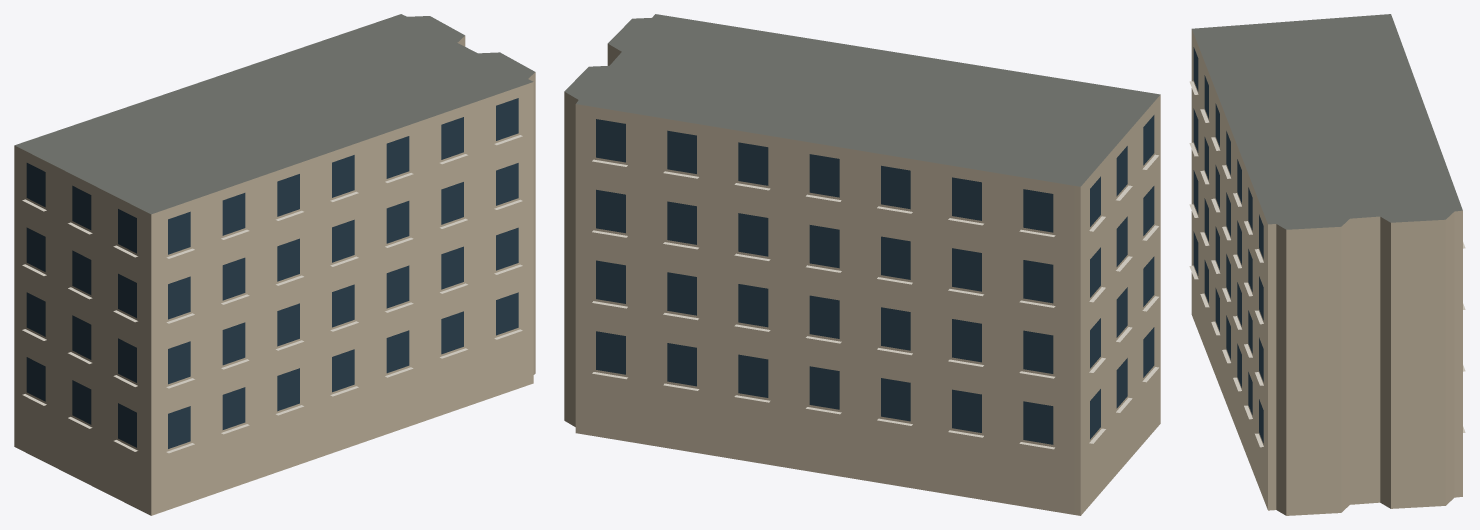
3 views of the same model, side by side, from view 1: azimuth 30°, elevation 25°; view 2: azimuth 150°, elevation 25°; view 3: azimuth 270°, elevation 25° (orthographic). The views are drawn at different scales.
Visible parts, largest first — view 1: Footprint 0, Inferred window bays, Window sills; view 2: Footprint 0, Inferred window bays, Window sills; view 3: Footprint 0, Inferred window bays, Window sills.
Boxes of the visible parts, x1,y1,x2,y2 form: Footprint 0: (14,14,535,515); Inferred window bays: (26,98,518,448); Window sills: (22,135,522,453); Footprint 0: (564,14,1160,515); Inferred window bays: (596,115,1154,444); Window sills: (592,154,1158,449); Footprint 0: (1191,14,1462,515); Inferred window bays: (1193,47,1263,443); Window sills: (1189,81,1465,447).
Bounding box in the file's own units: 22.83 × 14.05 × 12.3.
